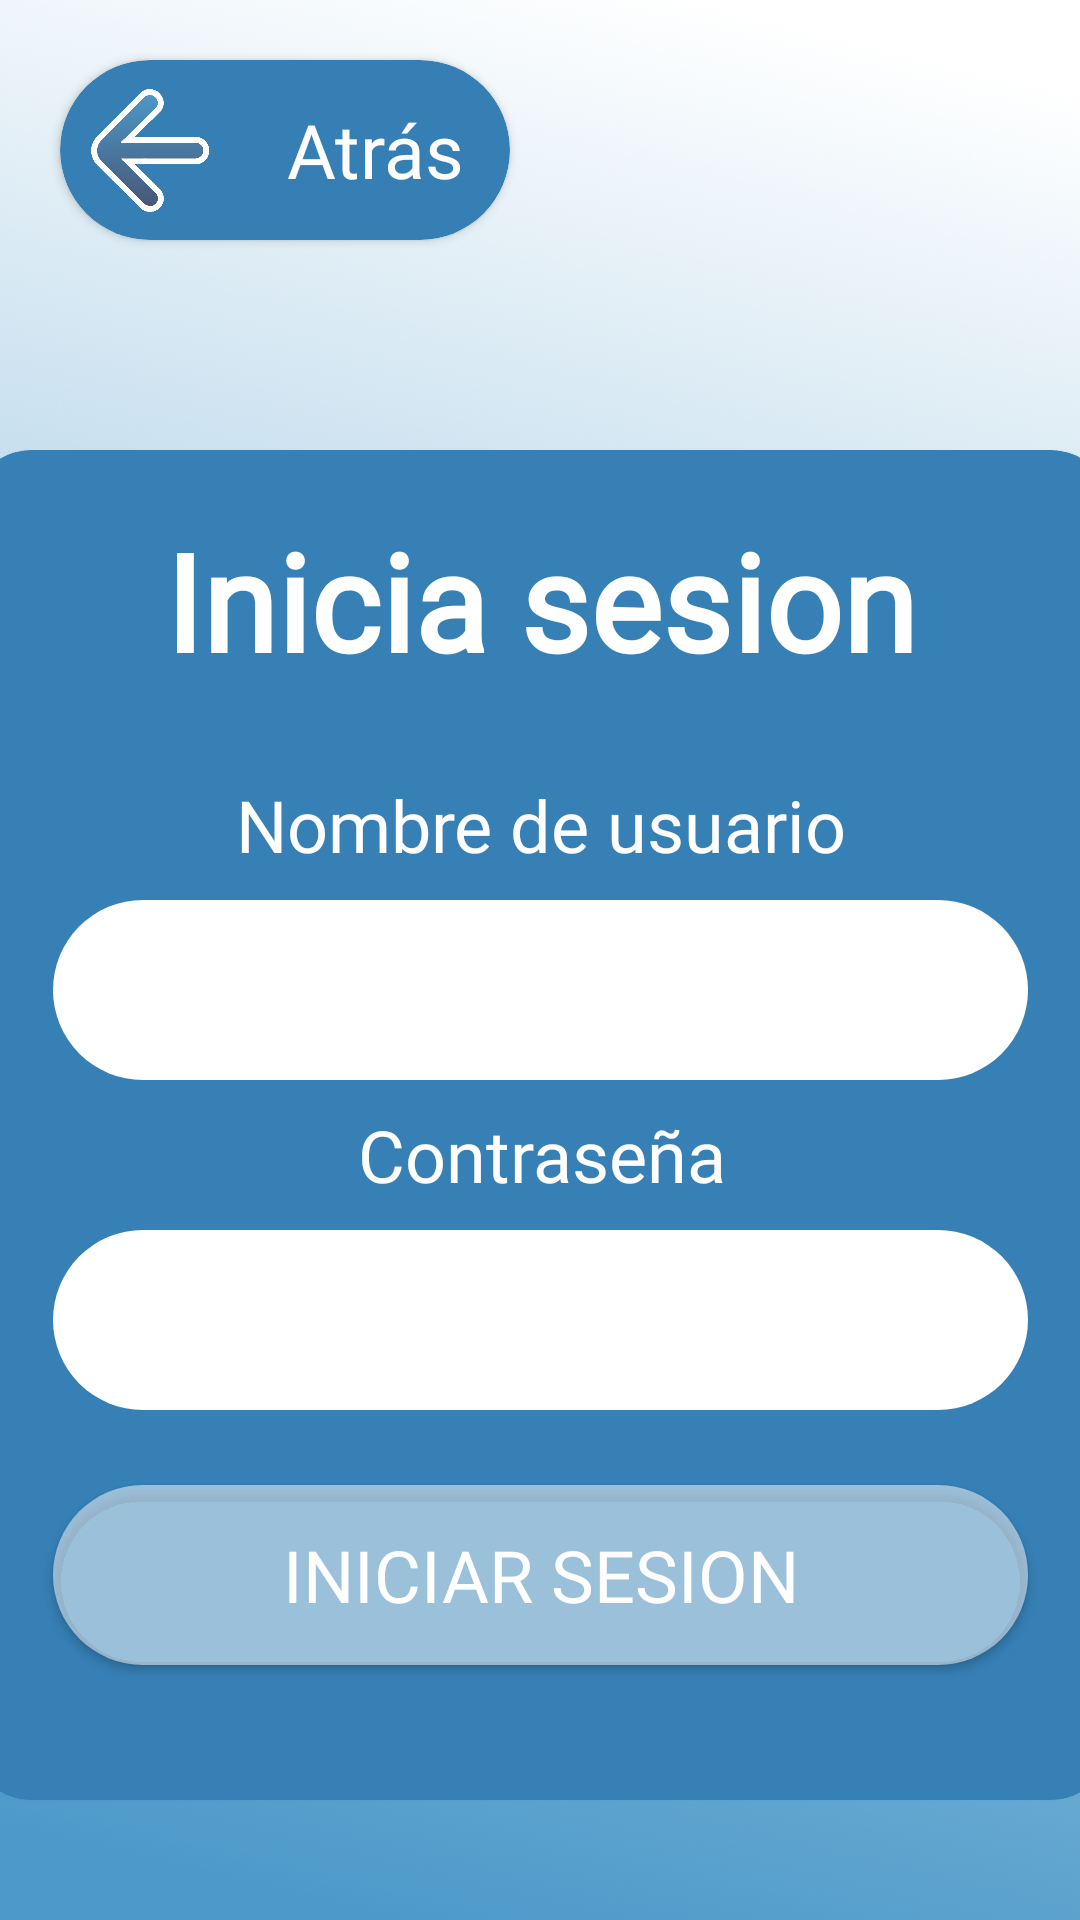

Where to tap for icons on this 1080 x 1920 app screen, as (x=x, y=y):
atras: (x=150, y=150)
